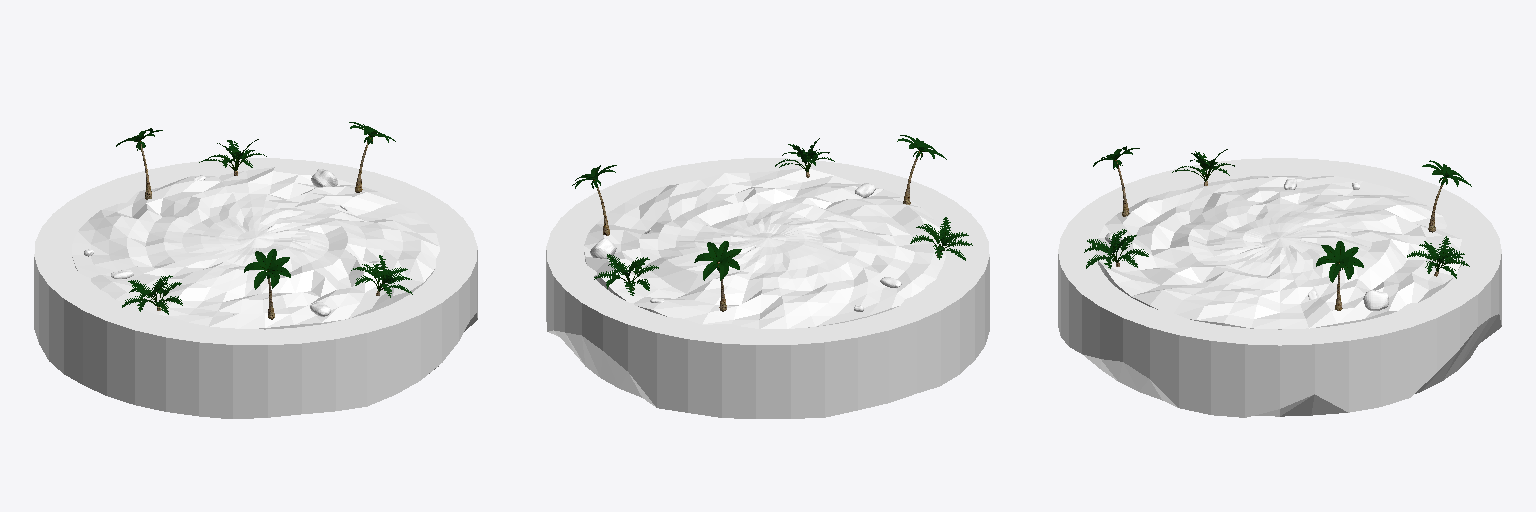
3 views of the same model, side by side, from view 1: azimuth 30°, elevation 25°; view 2: azimuth 150°, elevation 25°; view 3: azimuth 270°, elevation 25° (orthographic).
Parts seen in each view (by area): view 1: water, ground; view 2: water, ground; view 3: water, ground.
Boxes of the visible parts, box(x1,y1,x2,y2) form: water: box(34, 158, 477, 418); ground: box(72, 167, 439, 329); water: box(546, 158, 989, 418); ground: box(584, 168, 945, 328); water: box(1058, 158, 1501, 417); ground: box(1096, 176, 1462, 329).
Size of the model in its own units: 2659 by 1007 by 2659.
9 materials, 1 textured.